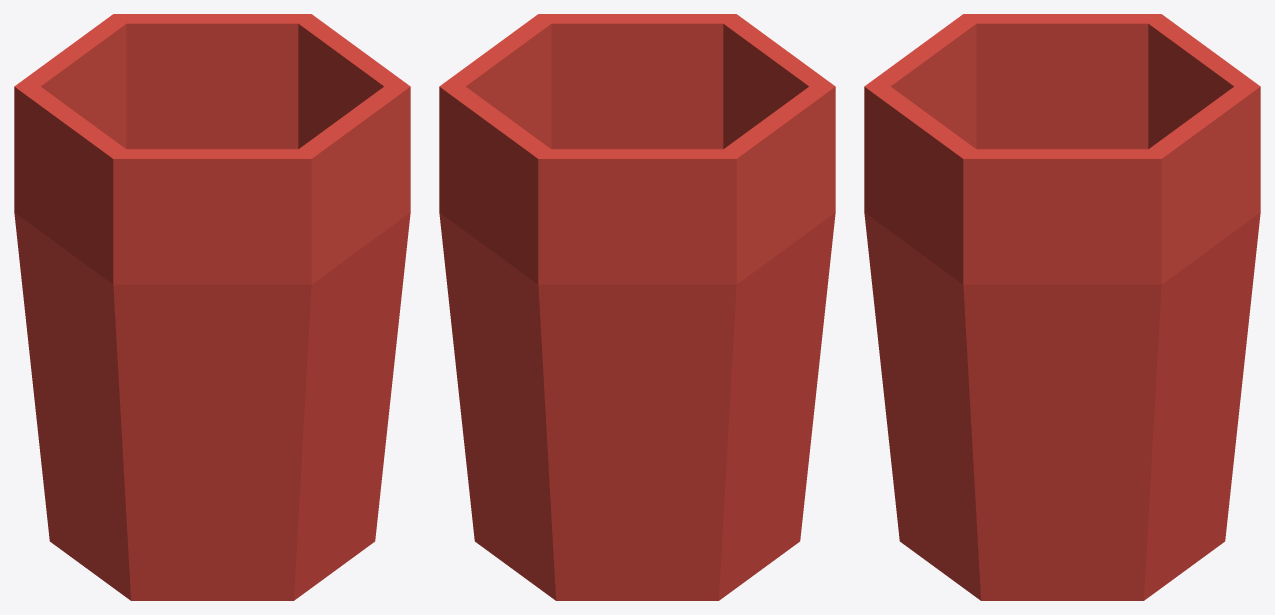
The model's file is Glass.fbx.
3 views of the same model, side by side, from view 1: azimuth 30°, elevation 25°; view 2: azimuth 150°, elevation 25°; view 3: azimuth 270°, elevation 25° (orthographic).
Parts seen in each view (by area): view 1: Glass; view 2: Glass; view 3: Glass.
Boxes of the visible parts, <box> form: Glass: <box>14,14,410,600</box>; Glass: <box>439,14,835,600</box>; Glass: <box>864,14,1260,600</box>.
Bounding box in the file's own units: 14.55 × 21.28 × 16.8.
